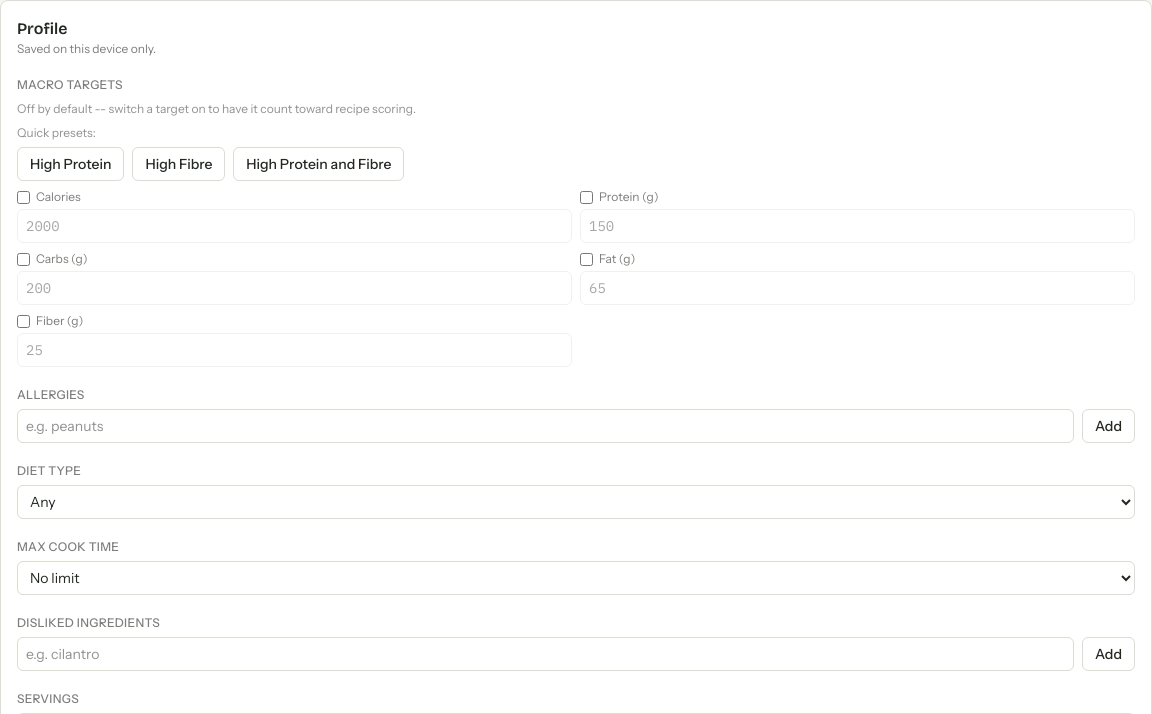
ProfileForm macro presets › 'High Protein' sets protein to 190g/enabled and leaves every other macro + its enabled flag untouched
Click the button "High Protein": coordinates (71, 164) left=17, top=147, right=124, bottom=181
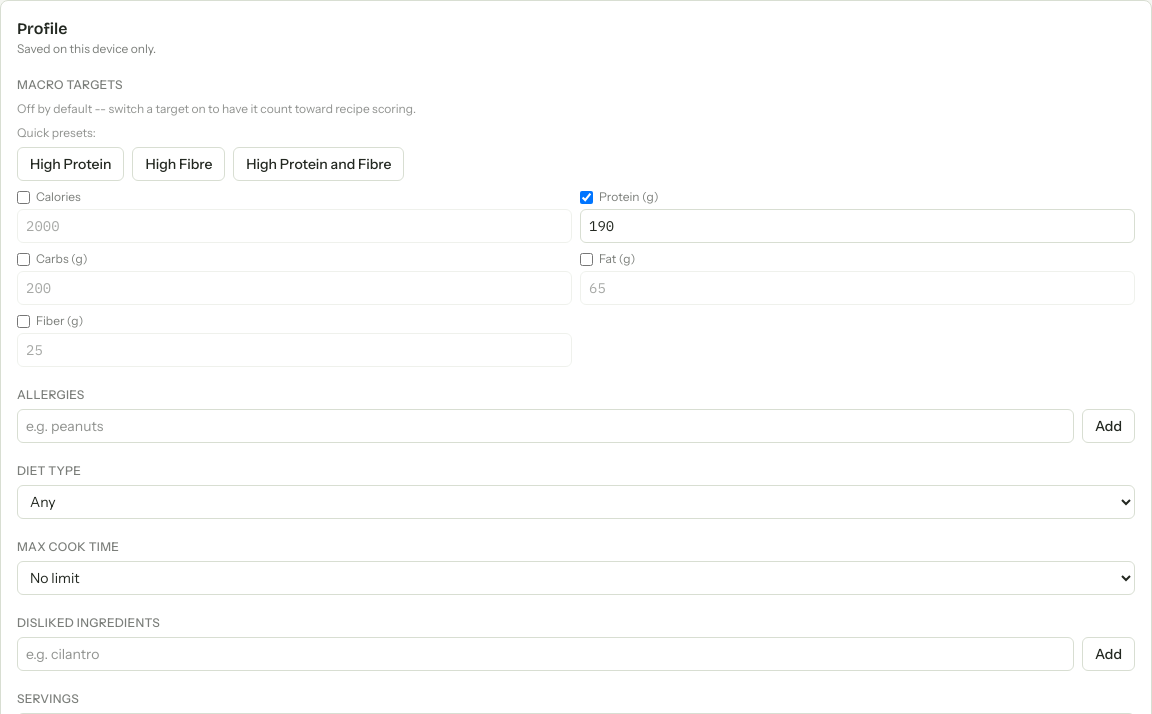
Expected: the checkbox named "Enable Protein (g) target" is checked, left=580, top=190, right=593, bottom=204
Expected: the number field named "Protein (g)" below "Protein (g)" holds "190", left=580, top=209, right=1135, bottom=243
